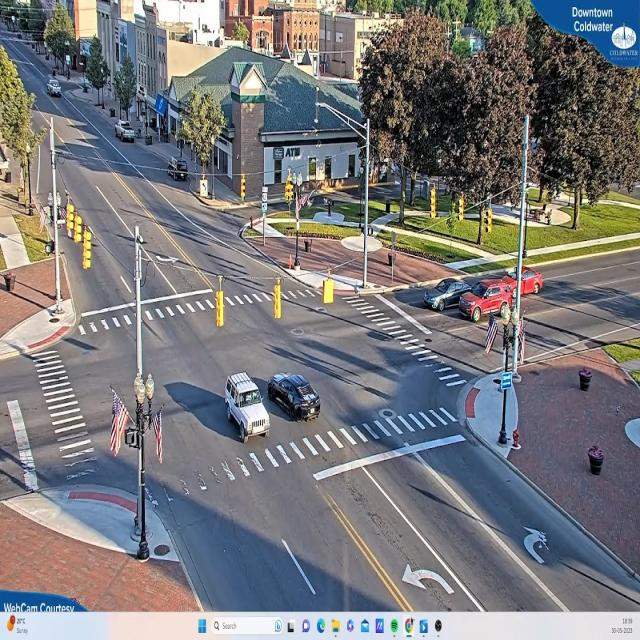car: (225, 376, 271, 441), (268, 368, 321, 418), (461, 286, 515, 320), (424, 279, 475, 313), (508, 266, 542, 297), (117, 122, 137, 145)
